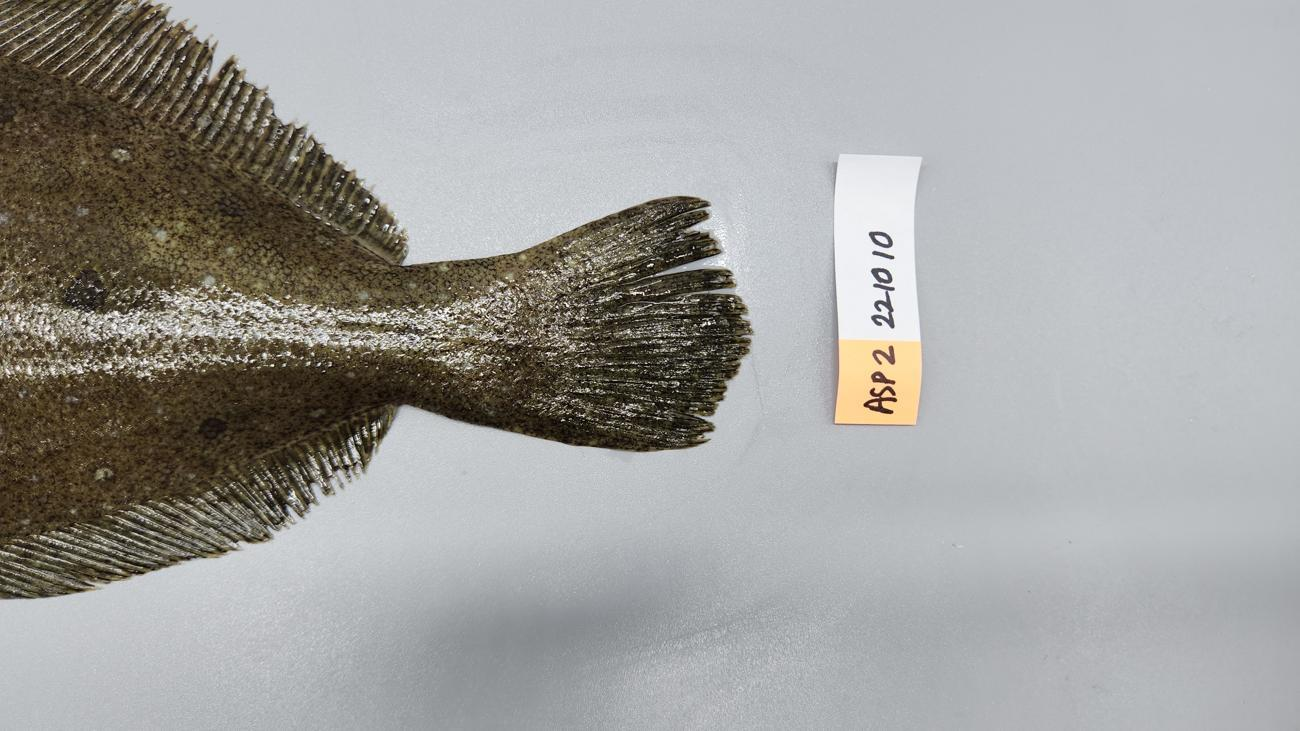SPDYH: (0, 374, 506, 536)
